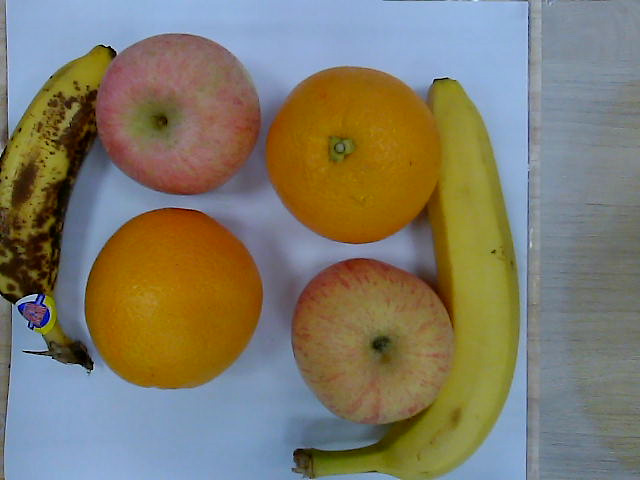fresh_apple: (97, 32, 263, 196), (292, 259, 451, 425)
fresh_banana: (377, 78, 522, 480)
fresh_orange: (85, 208, 265, 391), (265, 68, 441, 244)
rotten_banana: (1, 43, 114, 372)
